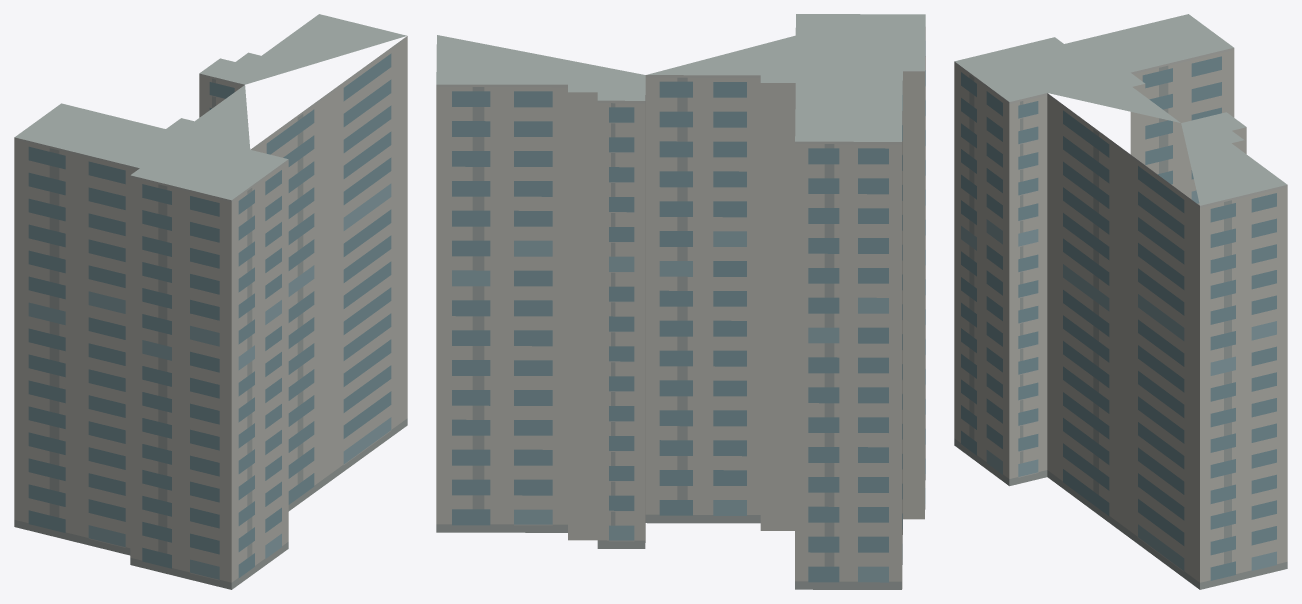
Rendered from residential-bd44e0a2-83ef-443b-acf2-a0c6361d1633.glb.
The picture shows the model from 3 angles, left to right: view 1: azimuth 30°, elevation 25°; view 2: azimuth 150°, elevation 25°; view 3: azimuth 270°, elevation 25°; orthographic projection. The views are drawn at different scales.
Parts seen in each view (by area): view 1: residential-bd44e0a2-83ef-443b-acf2-a0c6361d1633.tmp; view 2: residential-bd44e0a2-83ef-443b-acf2-a0c6361d1633.tmp; view 3: residential-bd44e0a2-83ef-443b-acf2-a0c6361d1633.tmp.
Boxes of the visible parts, left/top/right/bottom form: residential-bd44e0a2-83ef-443b-acf2-a0c6361d1633.tmp: left=14, top=14, right=407, bottom=589; residential-bd44e0a2-83ef-443b-acf2-a0c6361d1633.tmp: left=436, top=14, right=925, bottom=589; residential-bd44e0a2-83ef-443b-acf2-a0c6361d1633.tmp: left=954, top=14, right=1287, bottom=589.
Bounding box in the file's own units: 49.28 × 46 × 36.18.
